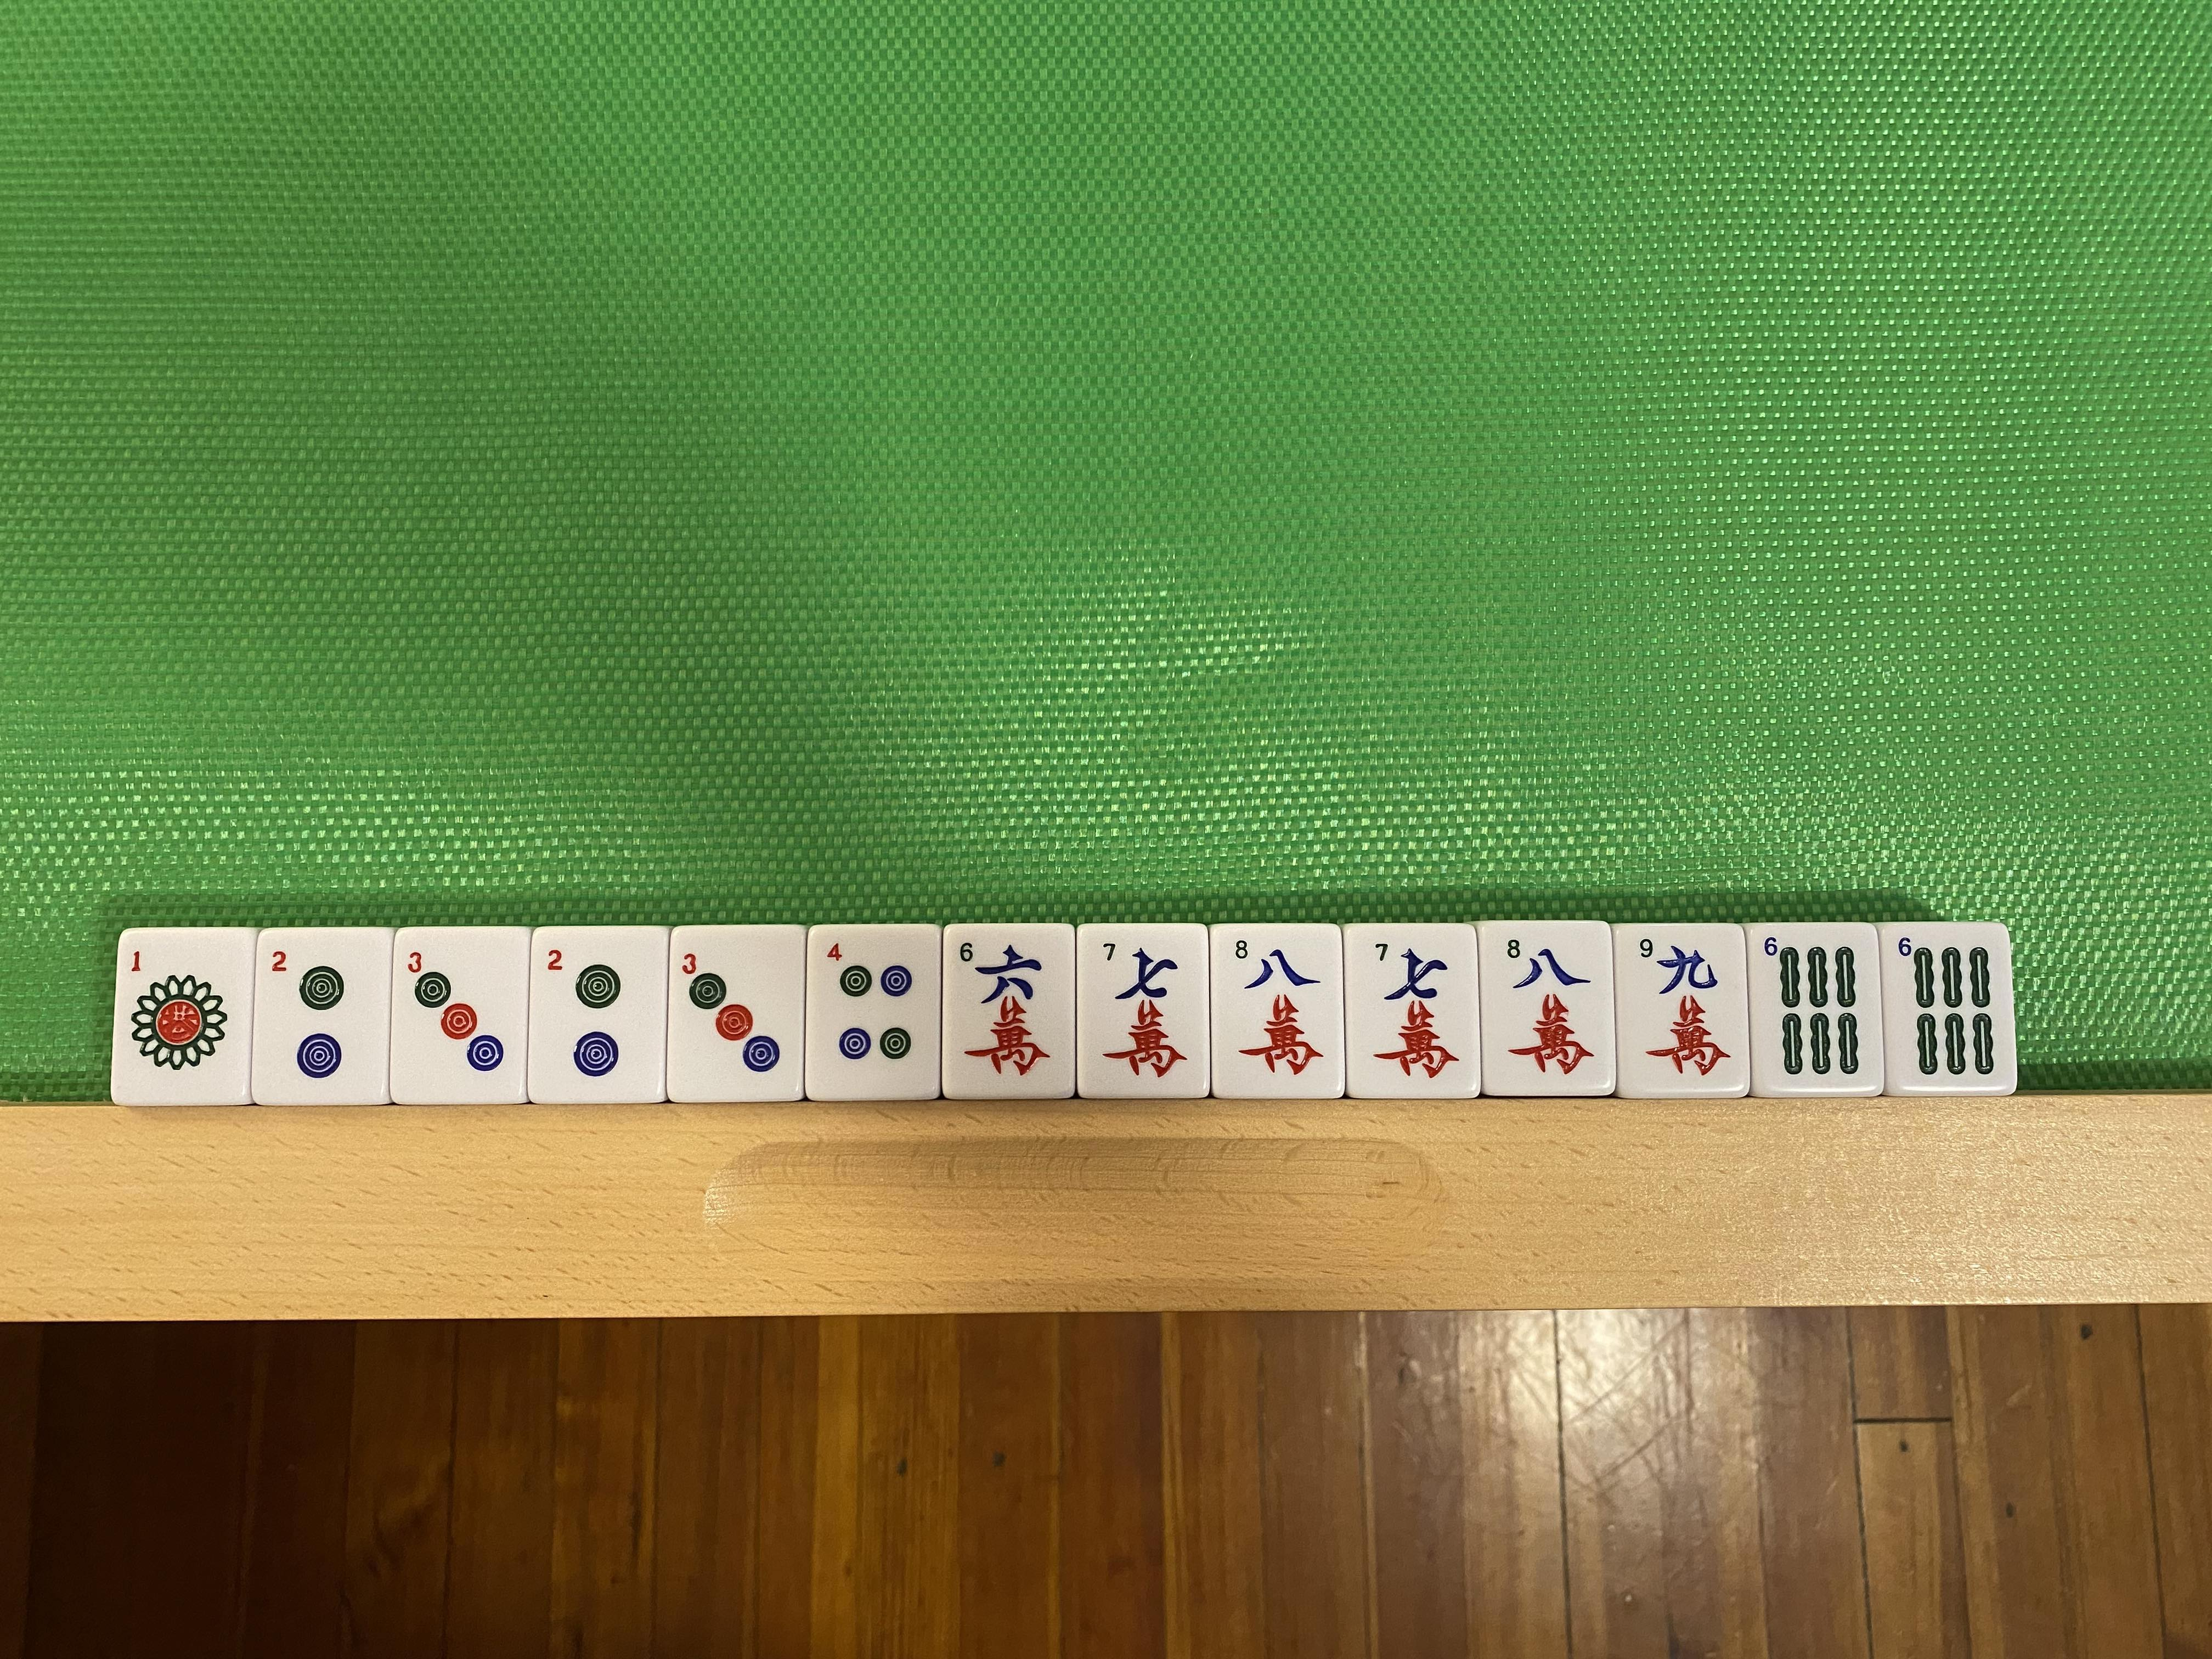bamboo-six: (1890, 929, 2005, 1086), (1756, 927, 1869, 1086)
character-eight: (1486, 925, 1606, 1093), (1219, 929, 1336, 1089)
character-nine: (1627, 927, 1738, 1093)
character-seven: (1355, 931, 1474, 1096), (1082, 931, 1200, 1093)
character-six: (953, 932, 1068, 1089)
circle-four: (812, 934, 928, 1087)
circle-one: (120, 931, 239, 1101)
circle-three: (399, 936, 521, 1098), (678, 931, 792, 1093)
circle-two: (538, 932, 657, 1098), (263, 936, 381, 1094)
